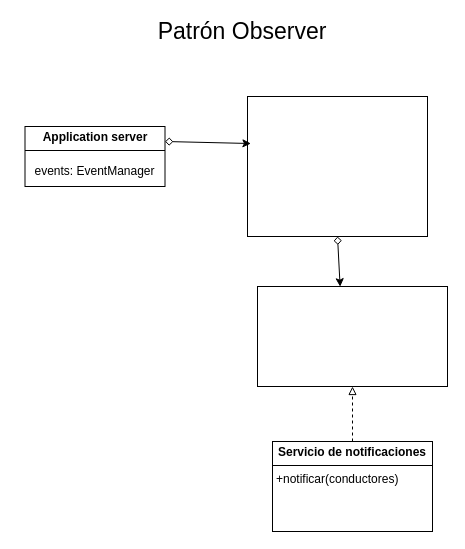
This 465x549 diagram has some shape labels left out. Each missing label, with the box of its shape:
<<Interface>> EventListener + update(viaje): (256, 286, 448, 386)
EventManager - listeners + notificarSolicitudViaje() + eliminarNotificacion(): (246, 96, 428, 236)
